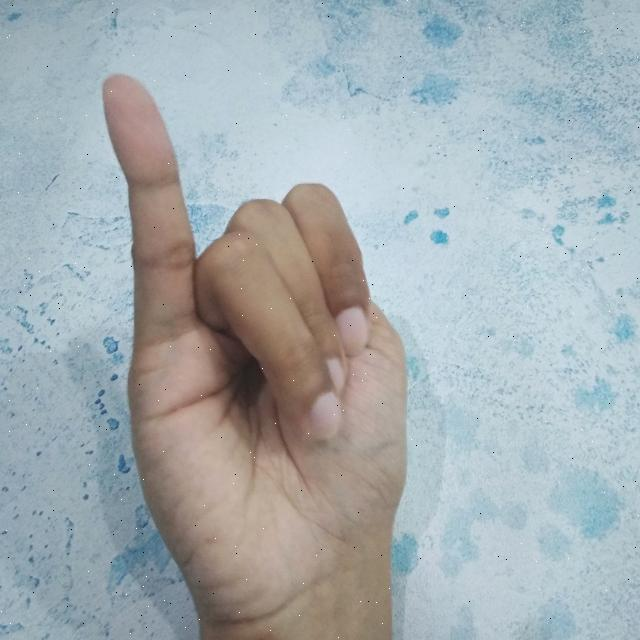I: (101, 72, 411, 640)
